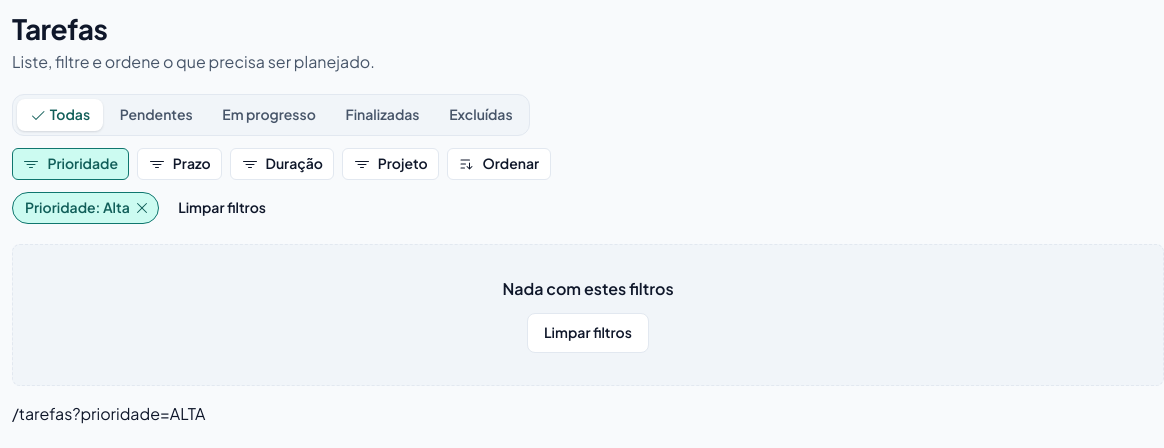
Test case: TarefasPage › lista › empty state com filtros oferece Limpar filtros
This screenshot has width=1164, height=448.
Step 1. Click the button "Limpar filtros" below "Nada com estes filtros" → (588, 333), box [527,313,649,353]
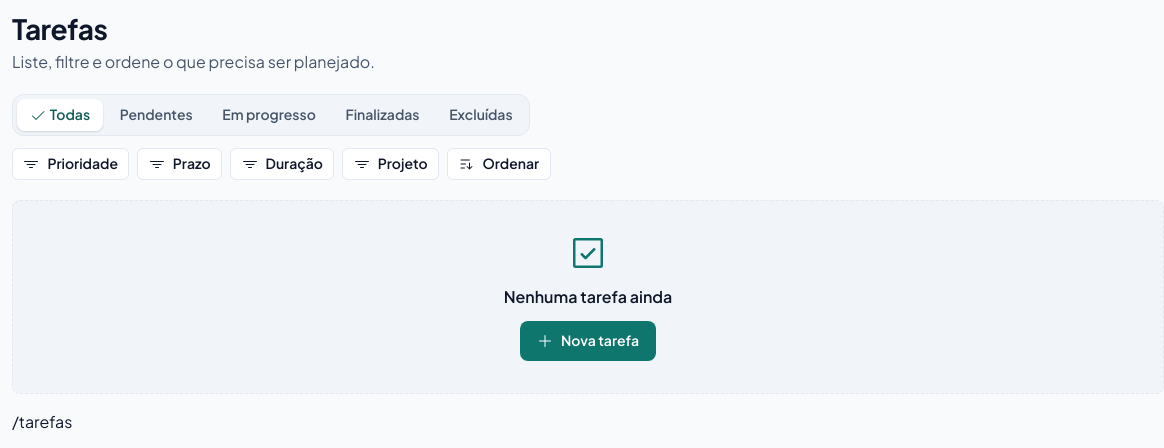
Now the text with test id "local" reads "/tarefas", box [12,411,72,432]
